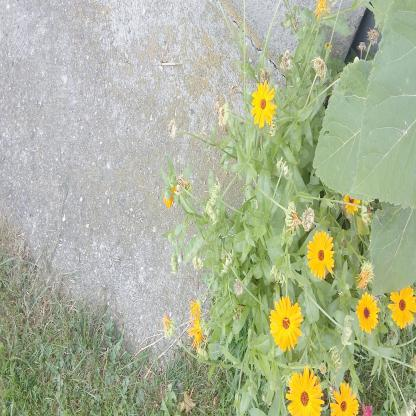marigold: (268, 294, 304, 352), (286, 364, 324, 416), (306, 231, 335, 282), (388, 280, 415, 332), (250, 80, 278, 129), (329, 380, 358, 416), (356, 291, 380, 334), (342, 183, 362, 215)
